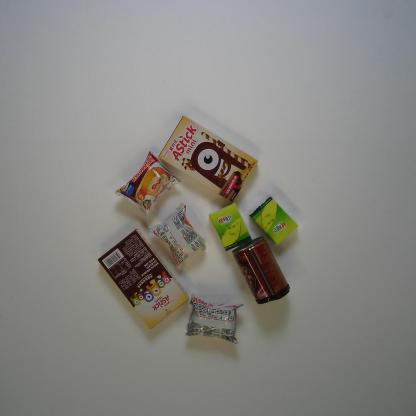Canned Food: (232, 235, 290, 305)
Dessert: (94, 227, 191, 334), (156, 115, 259, 204), (113, 149, 182, 222), (149, 200, 207, 272), (184, 290, 244, 346)
Tissue: (248, 195, 300, 247), (208, 203, 252, 254)
